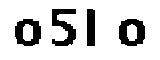5: (48, 3, 80, 48)
l: (82, 6, 104, 51)
o: (114, 15, 150, 47), (14, 17, 43, 47)
